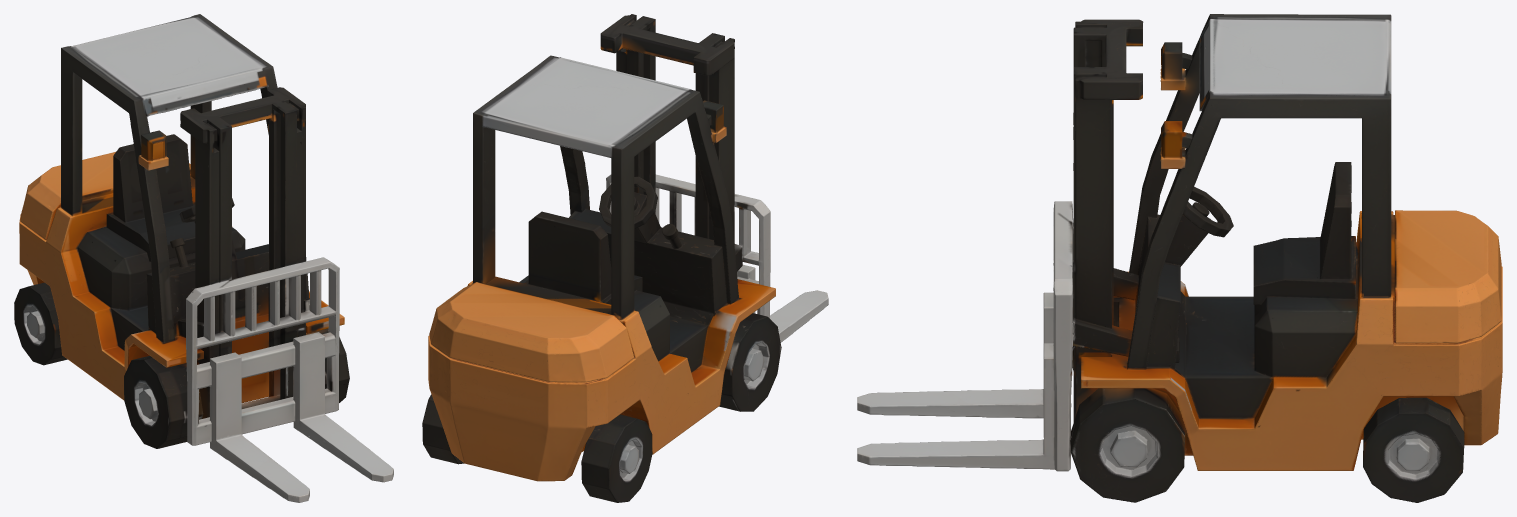
File: chariot.glb
The picture shows the model from 3 angles, left to right: view 1: azimuth 30°, elevation 25°; view 2: azimuth 150°, elevation 25°; view 3: azimuth 270°, elevation 25°; orthographic projection. The views are drawn at different scales.
Parts seen in each view (by area): view 1: texture_pbr_v128; view 2: texture_pbr_v128; view 3: texture_pbr_v128.
Boxes of the visible parts, bbox=[...] form: texture_pbr_v128: bbox=[14, 14, 393, 502]; texture_pbr_v128: bbox=[422, 14, 828, 502]; texture_pbr_v128: bbox=[857, 14, 1502, 502].
Bounding box in the file's own units: 0.4013 × 0.6842 × 1.
Materials: 1 (1 with a texture image).
